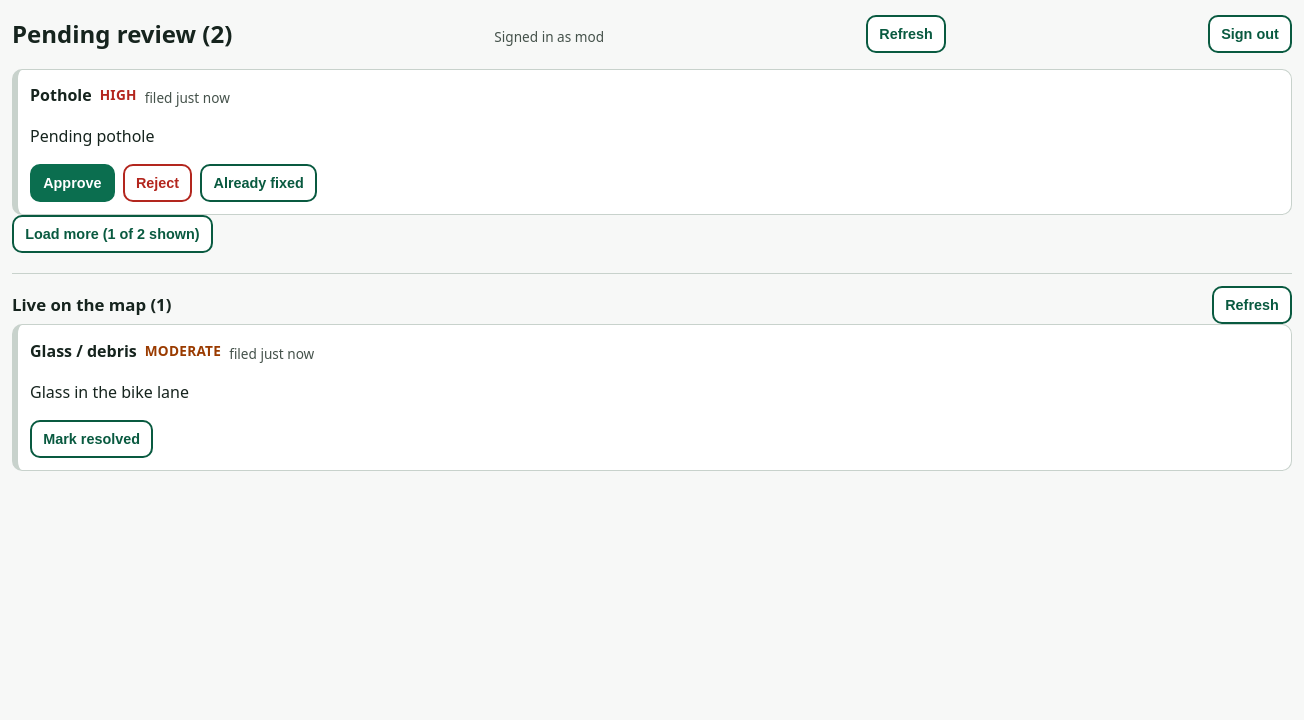
Test: ModerationPanel › pages the queue with "Load more" and shows the full backlog count (FIX-04)
Expected: the heading "Pending review (2)" is shown, [12,20,232,49]
Expected: the text "Pending pothole" is shown, [30,125,154,147]
Click the button "Load more (1 of 2 shown)" at (112, 234), box [12,215,213,253]
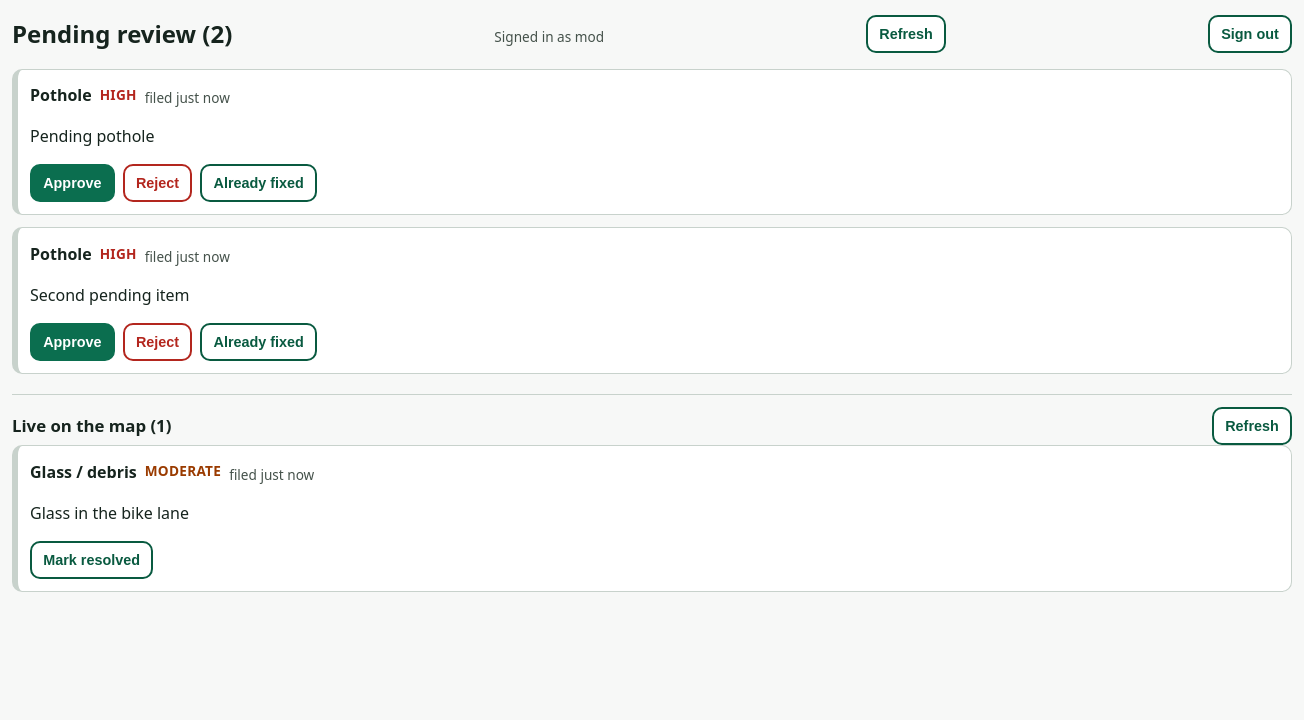
Expected: the text "Pending pothole" is shown, [30,125,154,147]
Now the text "Second pending item" is shown, box [30,284,190,306]
Now the button "Load more" is gone
